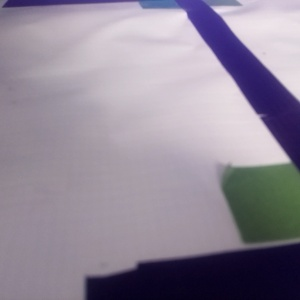bottom_left: (1, 64, 123, 117)
bottom_right: (79, 59, 196, 112)
top_left: (19, 37, 111, 80)
